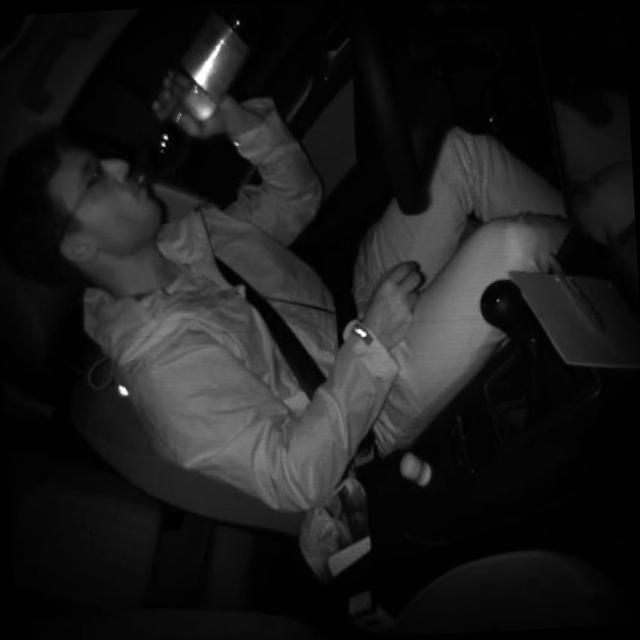pen: (546, 238, 602, 338)
